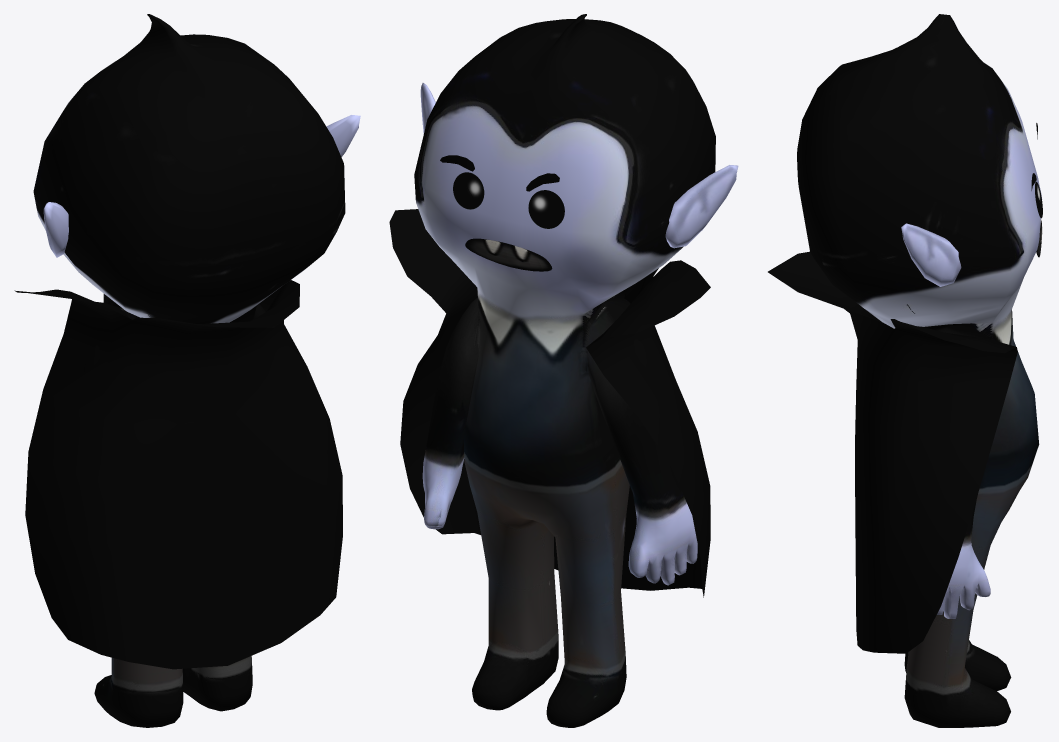
File: vampiro.glb
3 views of the same model, side by side, from view 1: azimuth 30°, elevation 25°; view 2: azimuth 150°, elevation 25°; view 3: azimuth 270°, elevation 25° (orthographic). The views are drawn at different scales.
Parts seen in each view (by area): view 1: Cube.001; view 2: Cube.001, olho, olho.003; view 3: Cube.001.
Part boxes in pixels (x1,y1,x2,y2): Cube.001: [14, 14, 360, 727]; Cube.001: [389, 14, 738, 727]; olho: [528, 190, 564, 228]; olho.003: [453, 172, 484, 209]; Cube.001: [768, 14, 1042, 727].
Size of what is drawn, in the model's own units: 0.776 by 1.61 by 0.598.
Materials: 2 (2 with a texture image).
